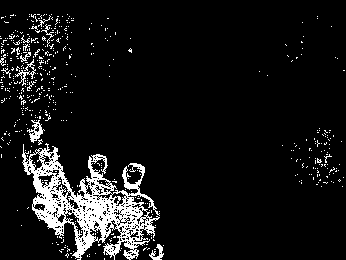person: (109, 158, 164, 260), (77, 152, 120, 252), (19, 122, 60, 209)
